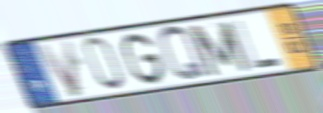0: (82, 35, 128, 94)
G: (121, 31, 168, 87)
L: (232, 18, 285, 71)
M: (186, 19, 254, 79)
Q: (157, 24, 212, 84)
V: (34, 37, 84, 100)
